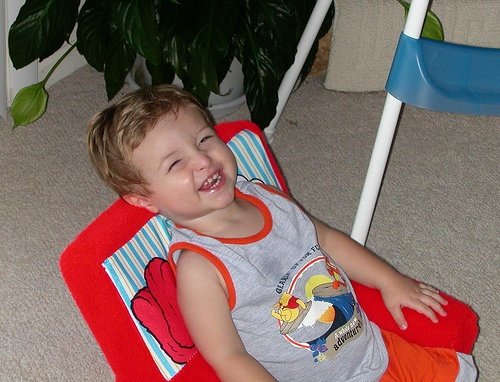head: (90, 87, 239, 222)
person: (85, 87, 447, 382)
